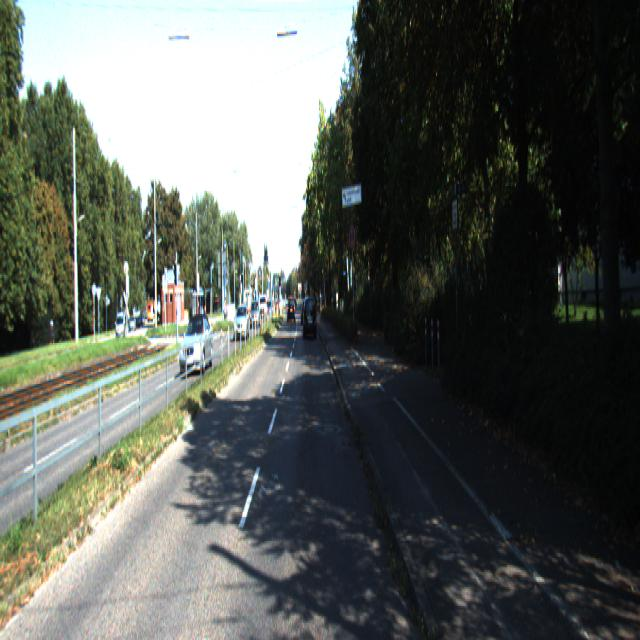Car: (179, 312, 215, 379), (304, 296, 318, 341)
